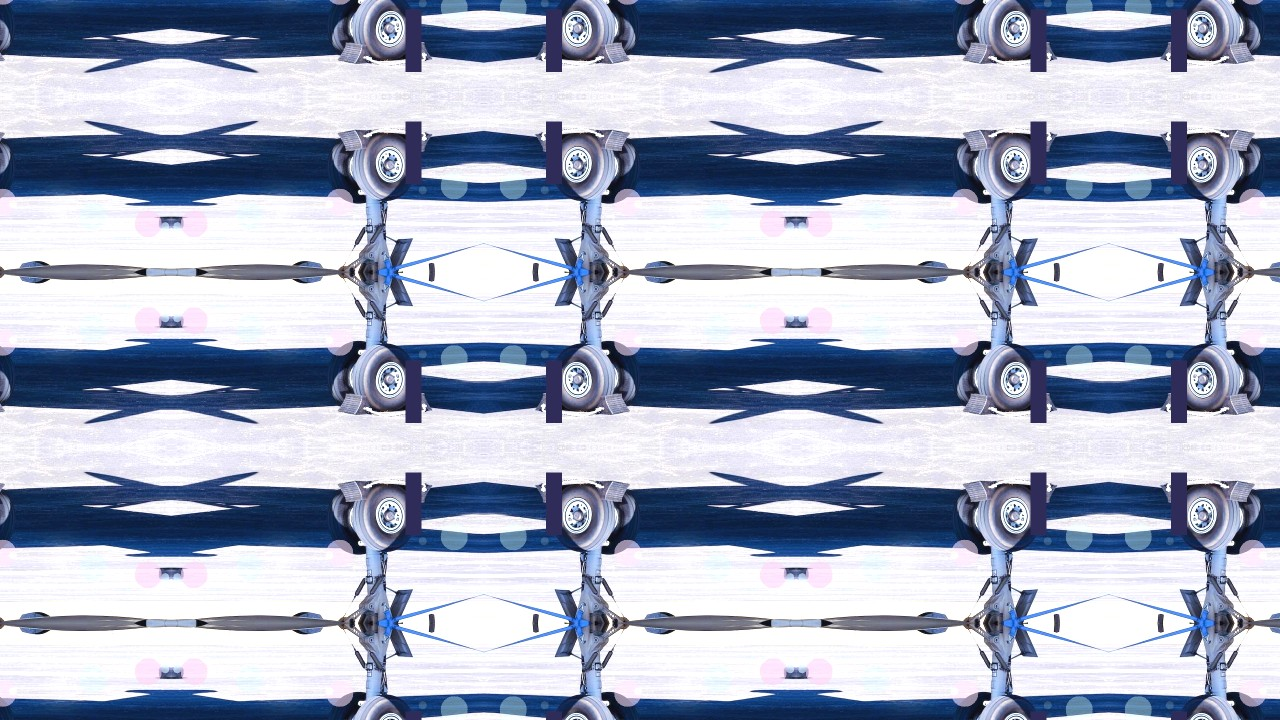chock: (337, 40, 372, 64), (595, 40, 630, 64), (963, 40, 998, 64), (1221, 40, 1256, 64), (337, 128, 372, 152), (595, 128, 630, 152), (963, 128, 998, 152), (1221, 128, 1256, 152), (337, 392, 372, 416), (595, 392, 630, 416), (963, 392, 998, 416), (1221, 392, 1256, 416), (337, 480, 372, 504), (595, 480, 630, 504), (963, 480, 998, 504), (1221, 480, 1256, 504), (399, 40, 433, 61), (534, 40, 568, 61), (1025, 40, 1059, 61), (1160, 40, 1194, 61), (399, 131, 433, 152), (534, 131, 568, 152), (1025, 131, 1059, 152), (1160, 131, 1194, 152), (399, 392, 433, 413), (534, 392, 568, 413), (1025, 392, 1059, 413), (1160, 392, 1194, 413), (399, 483, 433, 504), (534, 483, 568, 504), (1025, 483, 1059, 504), (1160, 483, 1194, 504), (0, 40, 4, 64), (0, 128, 4, 152), (0, 392, 4, 416), (0, 480, 4, 504)
wheel: (354, 133, 414, 200), (354, 485, 414, 552), (354, 345, 414, 411), (553, 133, 612, 200), (981, 133, 1040, 200), (1179, 133, 1238, 200), (553, 485, 612, 552), (981, 485, 1040, 552), (1179, 485, 1238, 552), (553, 345, 612, 411), (981, 345, 1040, 411), (1179, 345, 1238, 411), (354, 0, 414, 59), (553, 0, 612, 59), (981, 0, 1040, 59), (1179, 0, 1238, 59), (326, 140, 366, 204), (602, 140, 642, 204), (951, 140, 991, 204), (1227, 140, 1267, 204), (326, 340, 366, 404), (602, 340, 642, 404), (951, 340, 991, 404), (1227, 340, 1267, 404), (326, 492, 366, 556), (602, 492, 642, 556), (951, 492, 991, 556), (1227, 492, 1267, 556), (326, 0, 366, 52), (602, 0, 642, 52), (951, 0, 991, 52), (1227, 0, 1267, 52), (354, 697, 414, 720), (553, 697, 612, 720), (981, 697, 1040, 720), (1179, 697, 1238, 720), (326, 692, 366, 720), (602, 692, 642, 720), (951, 692, 991, 720), (1227, 692, 1267, 720), (0, 140, 16, 204), (0, 340, 16, 404), (0, 492, 16, 556), (0, 0, 16, 52), (0, 692, 16, 720), (170, 568, 183, 582), (784, 568, 797, 582), (796, 568, 809, 582), (170, 666, 183, 680), (784, 666, 797, 680), (796, 666, 809, 680), (170, 216, 183, 229), (784, 216, 797, 229), (796, 216, 809, 229), (170, 314, 183, 327), (784, 314, 797, 327), (796, 314, 809, 327), (158, 568, 170, 582), (158, 666, 170, 680), (158, 216, 170, 229), (158, 314, 170, 327)
